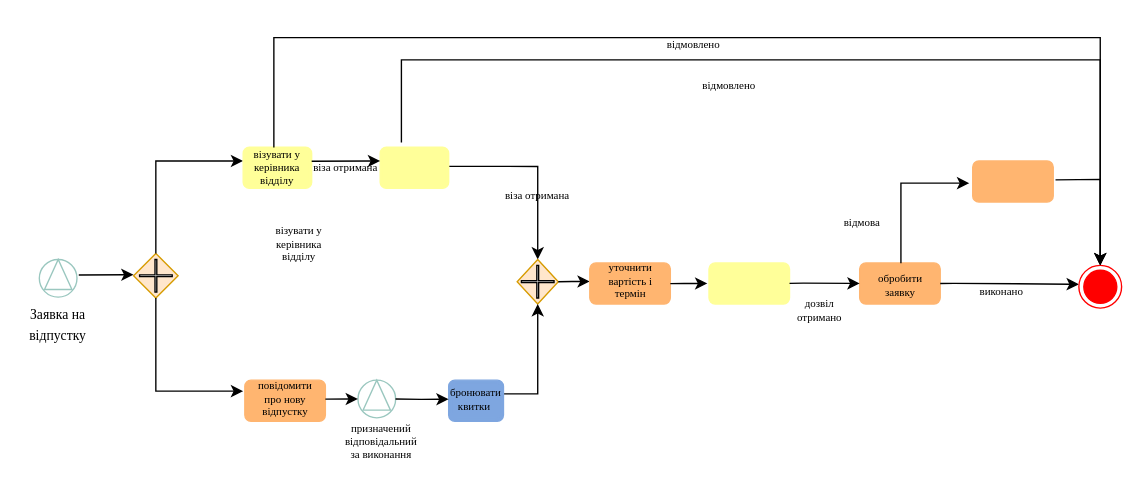
Image size: 1145x485. Some labels were removed from this diagram. The shapes that lost their labels are listed below. From the top down, each one's centre as x and y in pixels, then its label:
pixel 414 167: візувати у директора
pixel 1012 181: повернення квитків та грошей
pixel 749 283: дозвіл відділу фінансів
